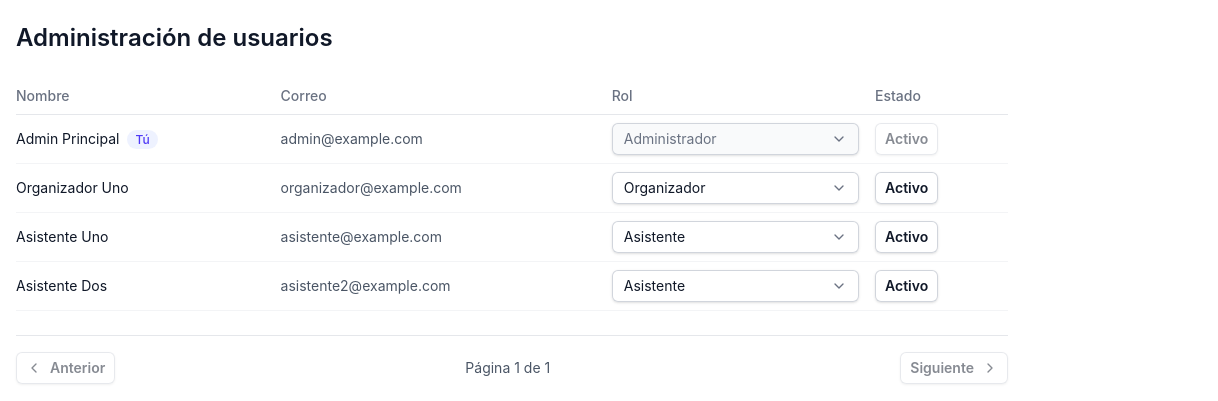
Scenario: AdminUsersPage › cambia el rol de otro usuario (PATCH {role: organizador}) e invalida el listado
This screenshot has width=1218, height=401.
Check: the text "Asistente Uno" is shown, box [16, 212, 281, 262]
Click the dropdown named "Rol de Asistente Uno": (735,237) [612, 221, 859, 253]
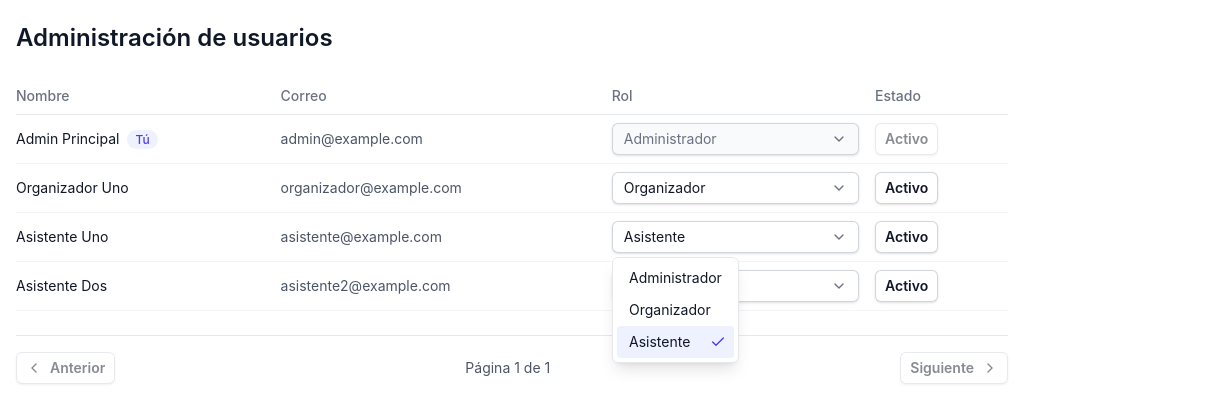
Click the option "Organizador": (670,310) [629, 301, 711, 318]
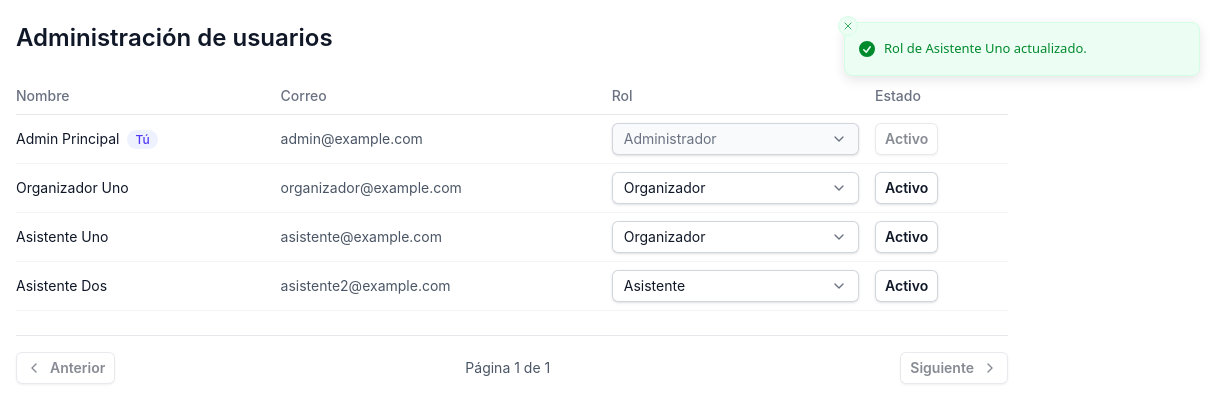
Check: the text "Rol de Asistente Uno actualizado." is shown, box [884, 39, 1087, 58]
Check: the dropdown named "Rol de Asistente Uno" reads "Organizador", box [612, 221, 859, 253]
